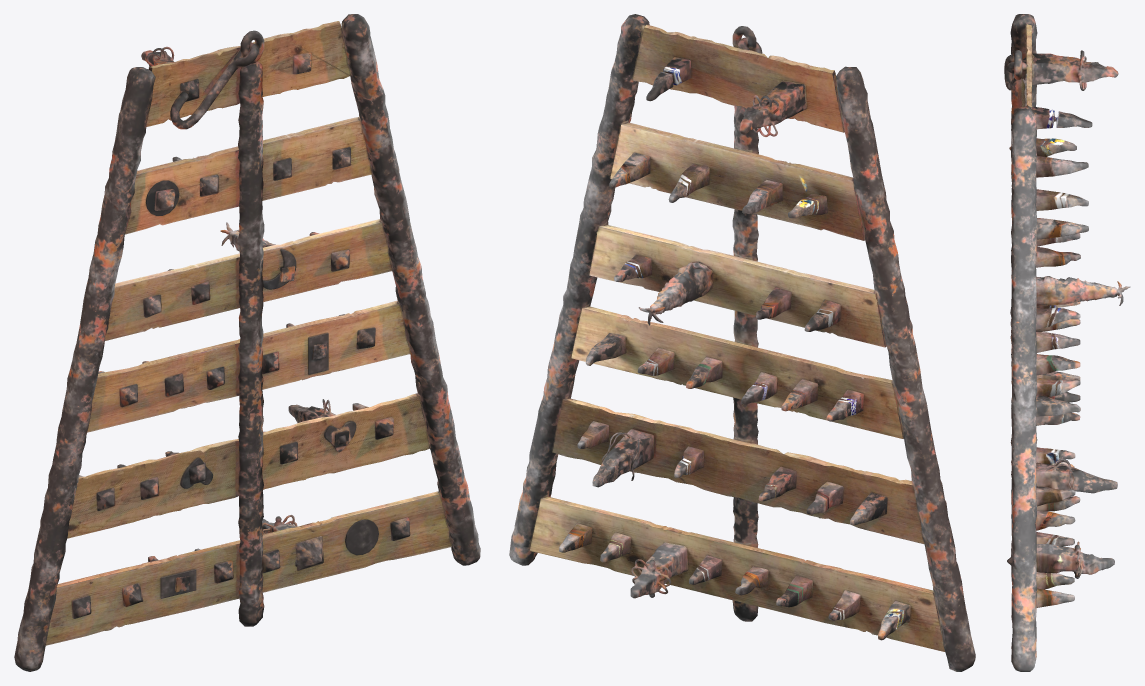
The model's file is Brana.gltf.
The picture shows the model from 3 angles, left to right: view 1: azimuth 30°, elevation 25°; view 2: azimuth 150°, elevation 25°; view 3: azimuth 270°, elevation 25°; orthographic projection. The views are drawn at different scales.
Visible parts, largest first — view 1: Brana_LP.001; view 2: Brana_LP.001; view 3: Brana_LP.001.
Part boxes in pixels (left/top/right/bottom): Brana_LP.001: left=14, top=14, right=480, bottom=671; Brana_LP.001: left=509, top=14, right=975, bottom=671; Brana_LP.001: left=1004, top=14, right=1130, bottom=671.
Bounding box in the file's own units: 0.9173 × 1.13 × 0.2435.
1 material, 1 textured.
